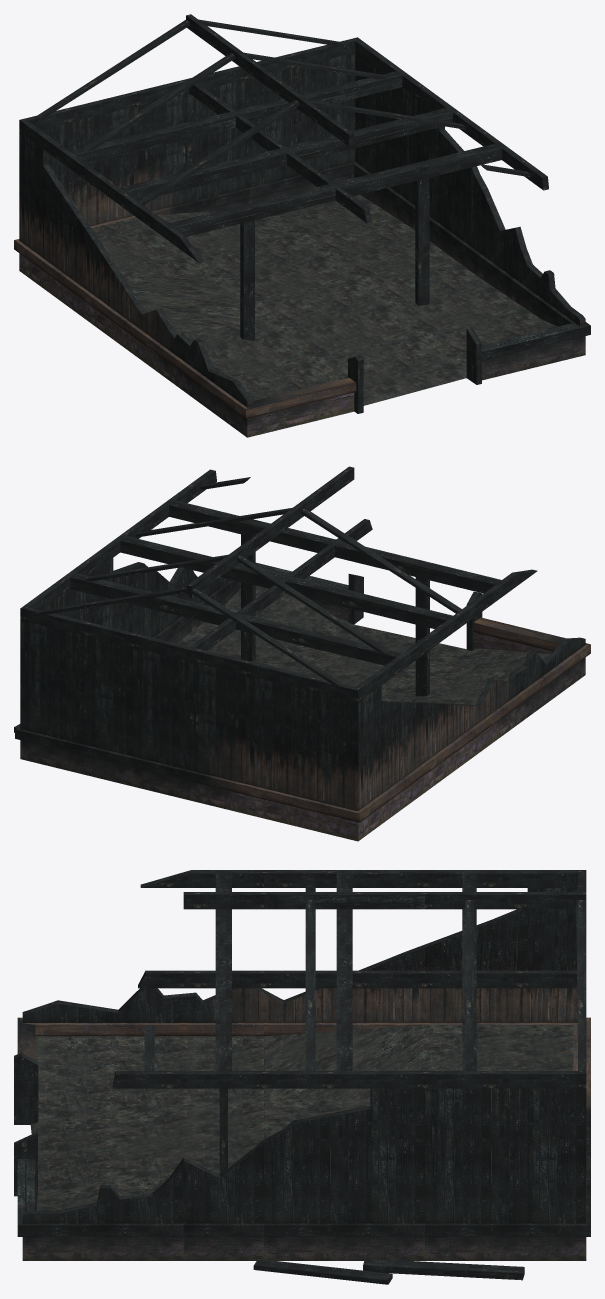
File: burned_out_stable.fbx
The picture shows the model from 3 angles, top to bottom: view 1: azimuth 30°, elevation 25°; view 2: azimuth 150°, elevation 25°; view 3: azimuth 270°, elevation 25°; orthographic projection. The views are drawn at different scales.
Parts seen in each view (by area): view 1: burned_out_stable; view 2: burned_out_stable; view 3: burned_out_stable.
Part boxes in pixels (x1,y1,x2,y2): burned_out_stable: (14,14,590,437); burned_out_stable: (14,466,590,841); burned_out_stable: (14,870,590,1284).
Size of the model in its own units: 1440 by 775 by 1526.
